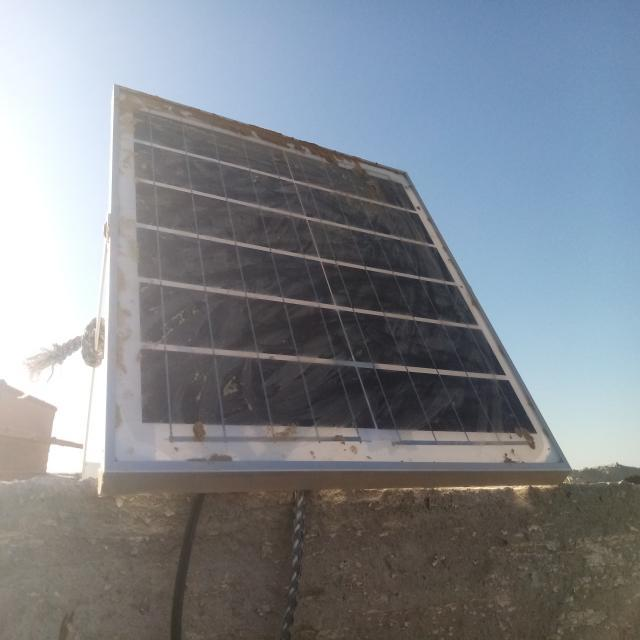faulty: (111, 90, 568, 470)
